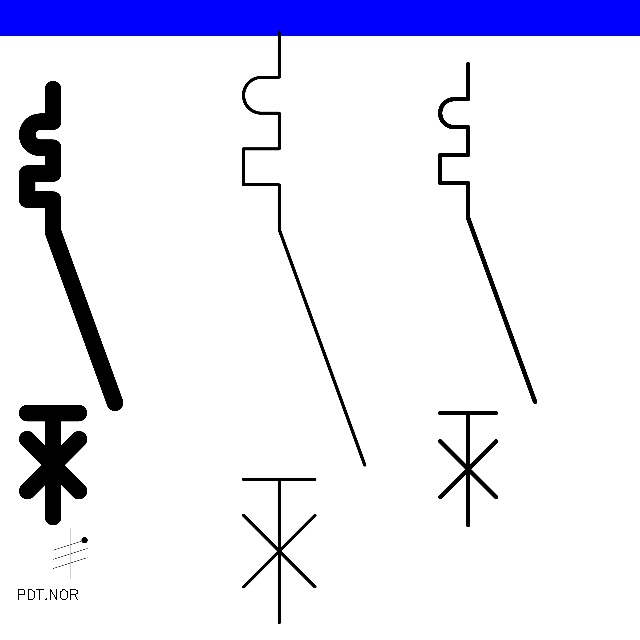interruptor_termomagnetico: (228, 17, 380, 637), (428, 52, 547, 537), (16, 78, 126, 528)
